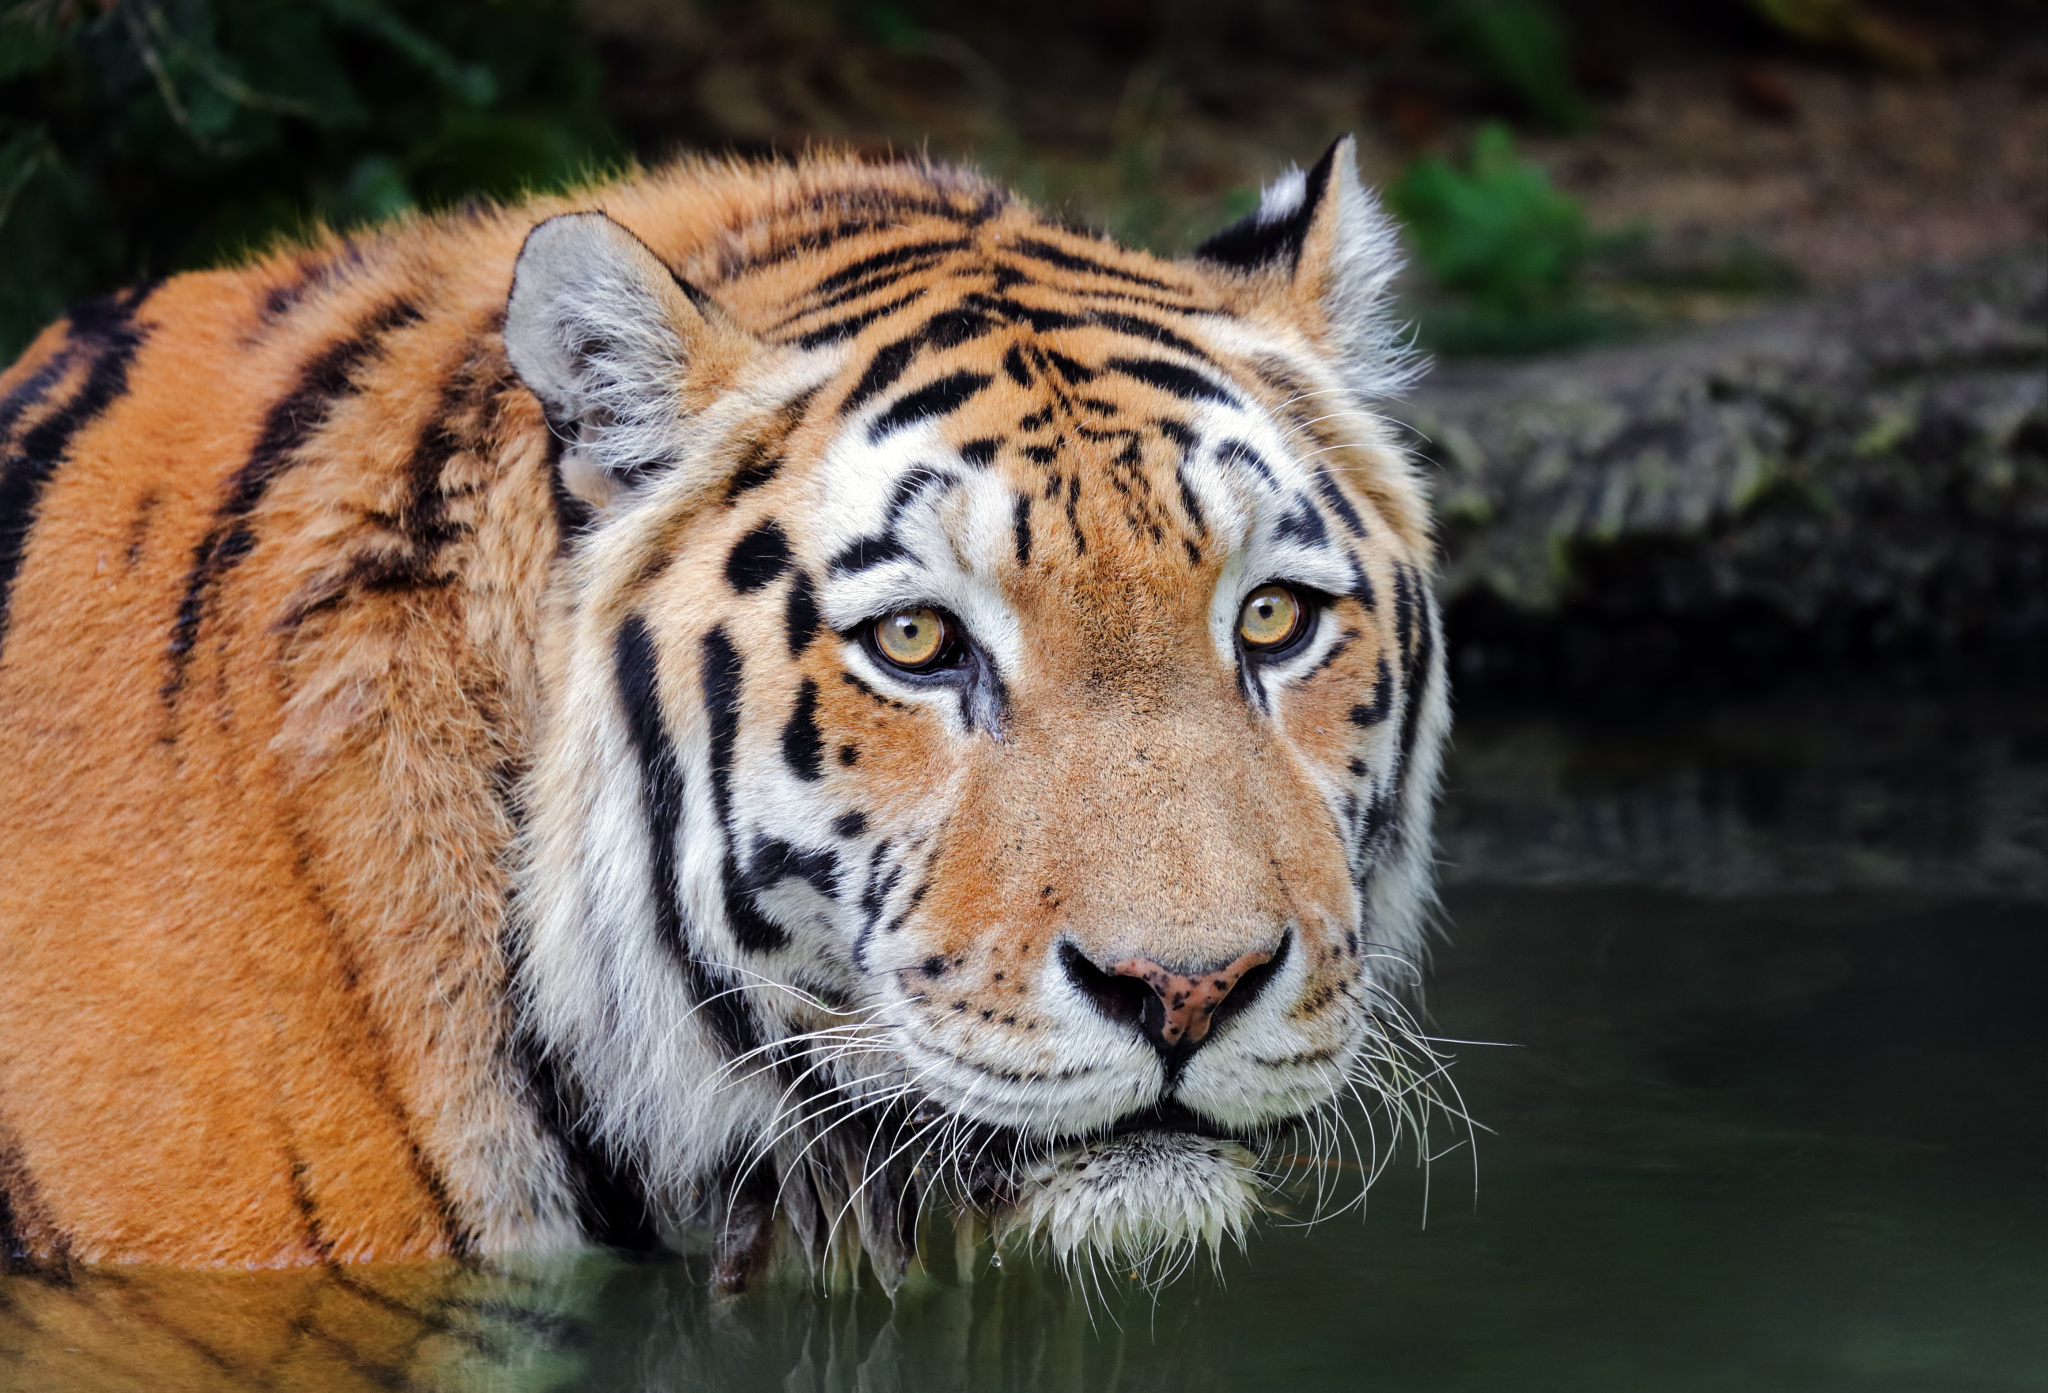tiger: (44, 82, 1588, 1292)
